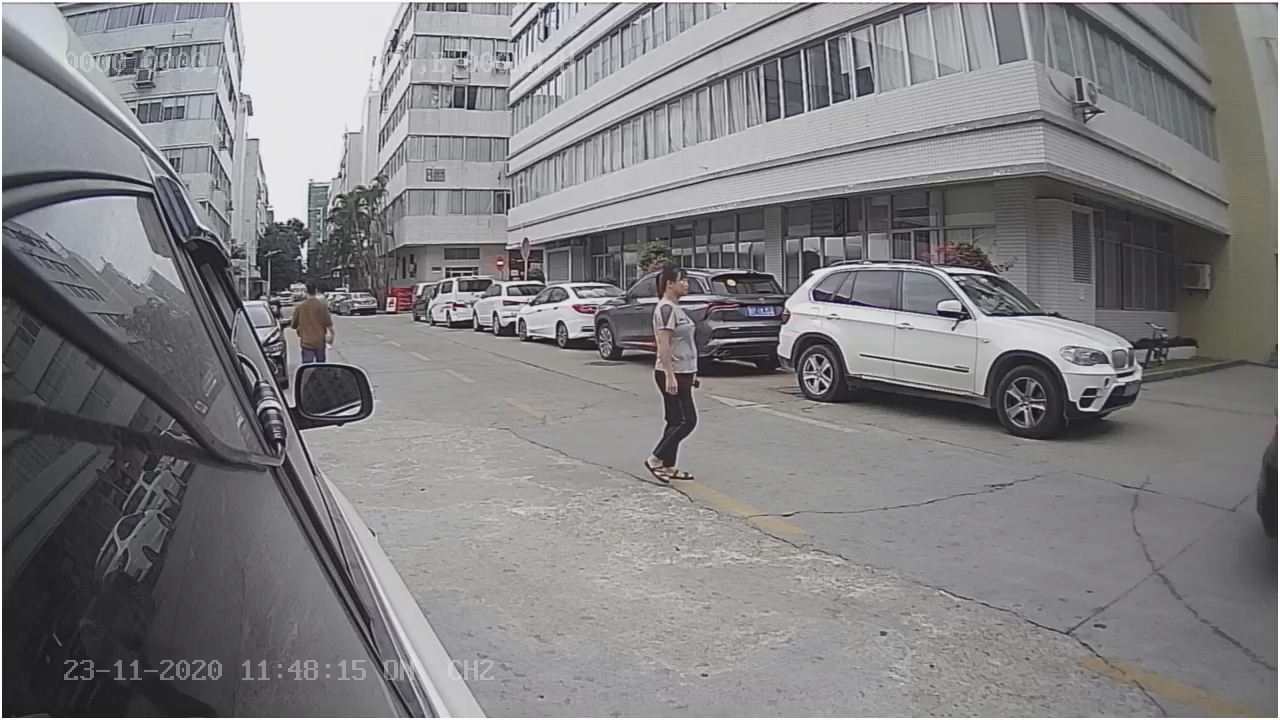person: (636, 262, 710, 484)
